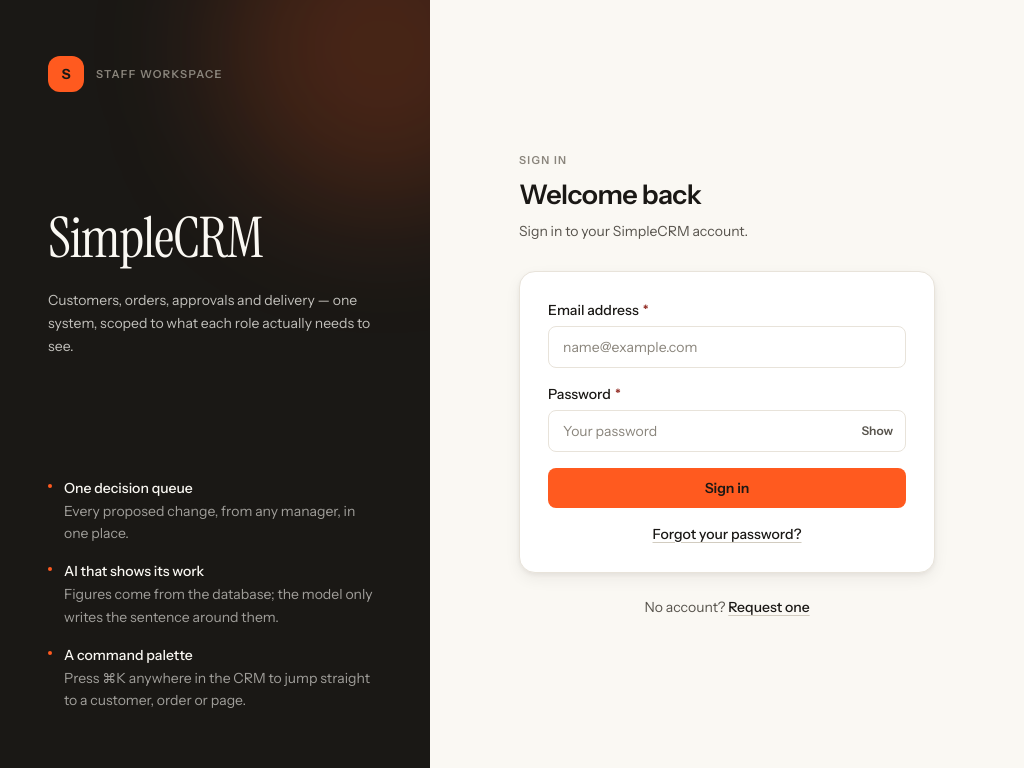
Login › re-enables the button after a failed attempt
In the field labelled "Email address*": point(727, 346) [548,326,906,368], type "ayesha@example.com"
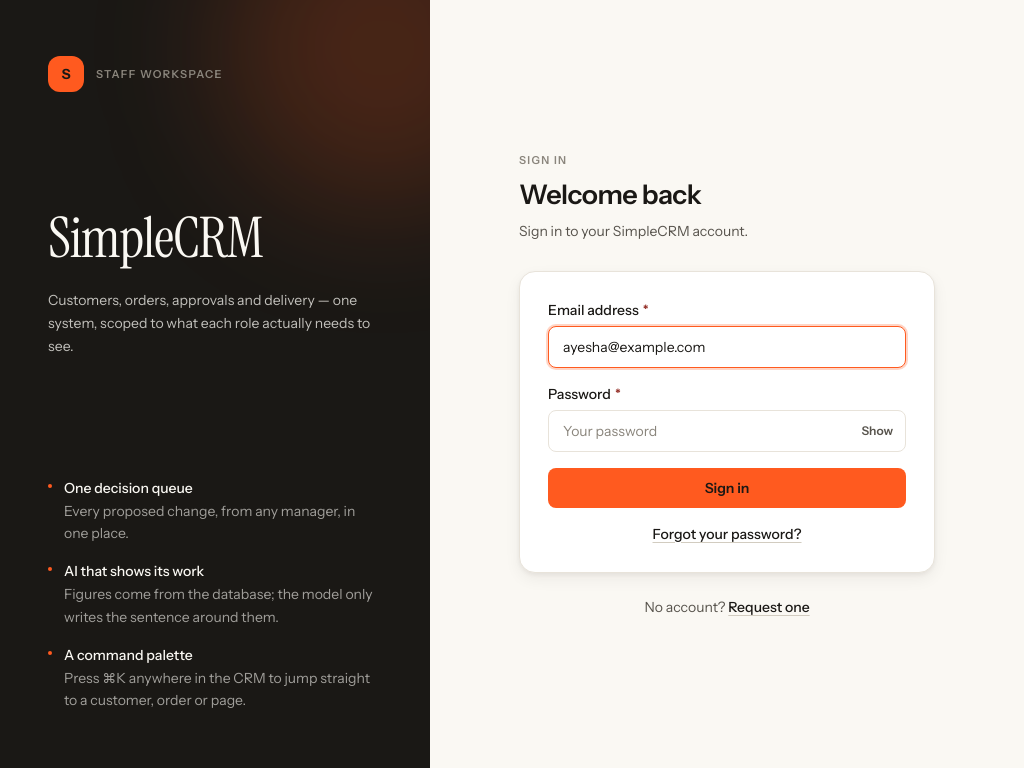
In the password field labelled "Password*": point(727, 430) [548,410,906,452], type "wrong"
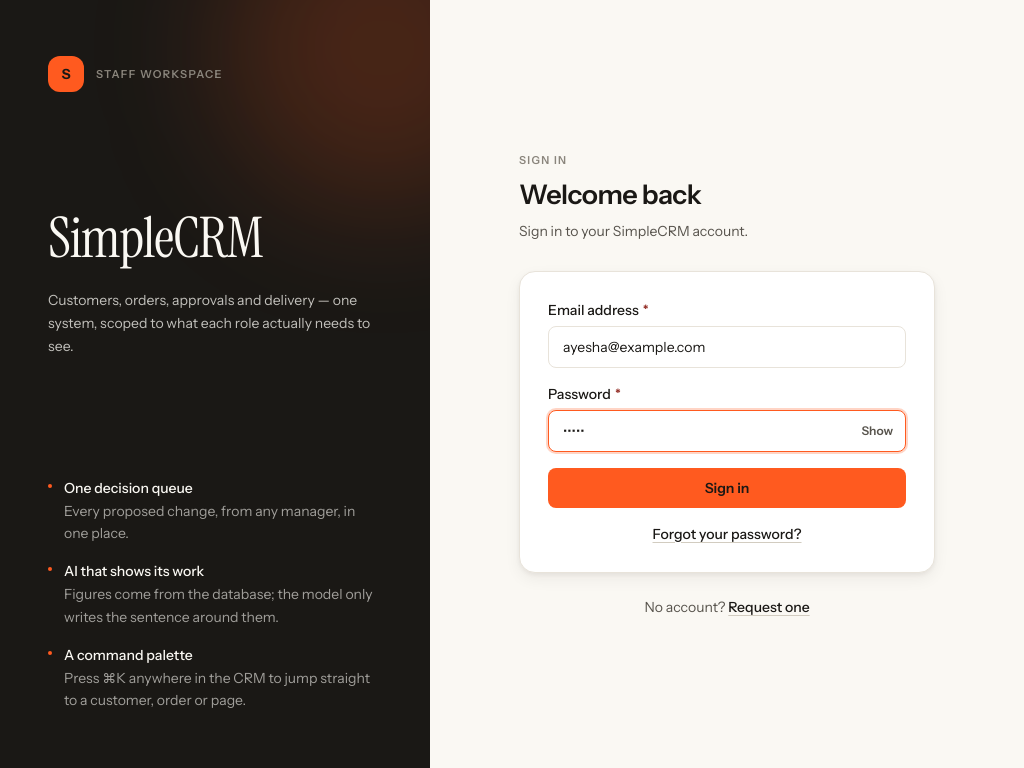
Click the button "Sign in": point(727, 488) [548,468,906,508]
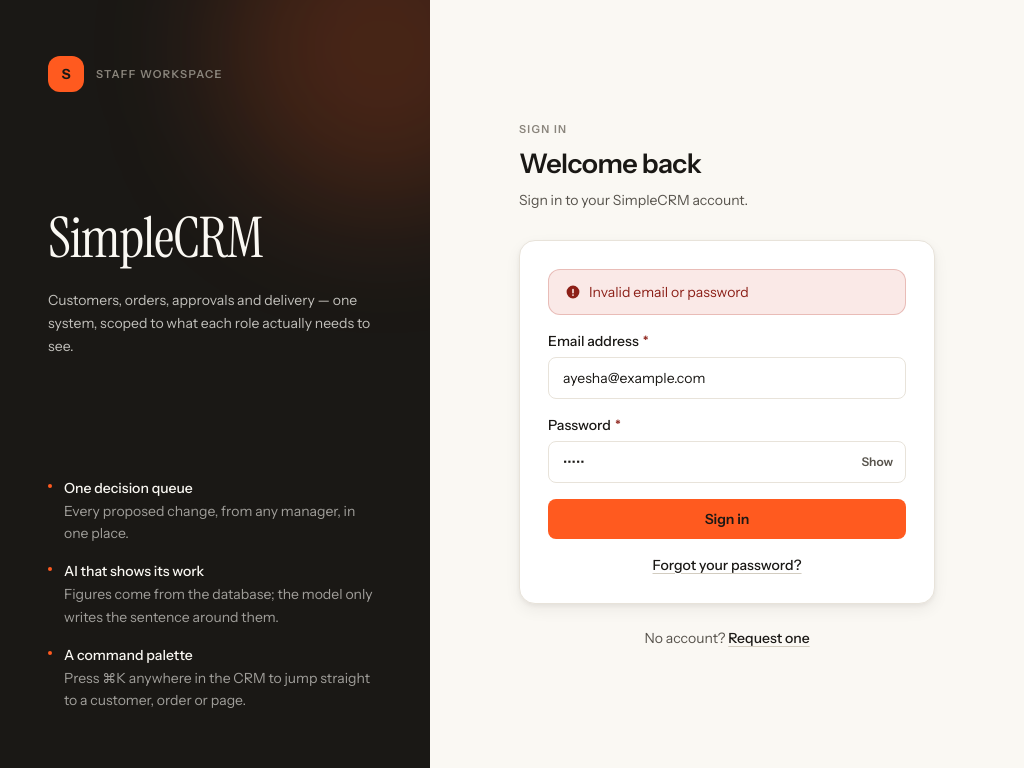
Expected: the button "Sign in" is enabled, [548,498,906,538]
Result: the text "Invalid email or password" is shown at [565,282,749,302]
